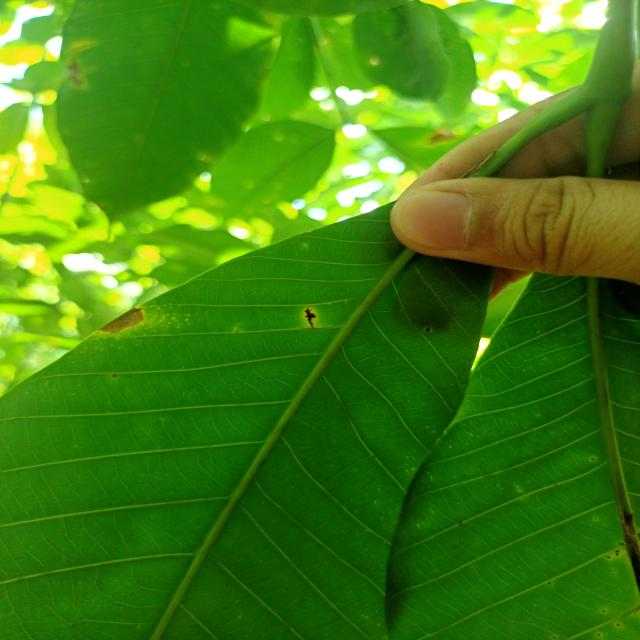Colletotrichum: (425, 327, 430, 332), (602, 610, 606, 613), (553, 636, 556, 639), (597, 634, 600, 636), (617, 623, 619, 626), (616, 550, 619, 552), (607, 556, 610, 558), (616, 553, 618, 555)
Corynespora: (304, 307, 316, 328)
Leaf-Blight: (98, 307, 145, 334)
